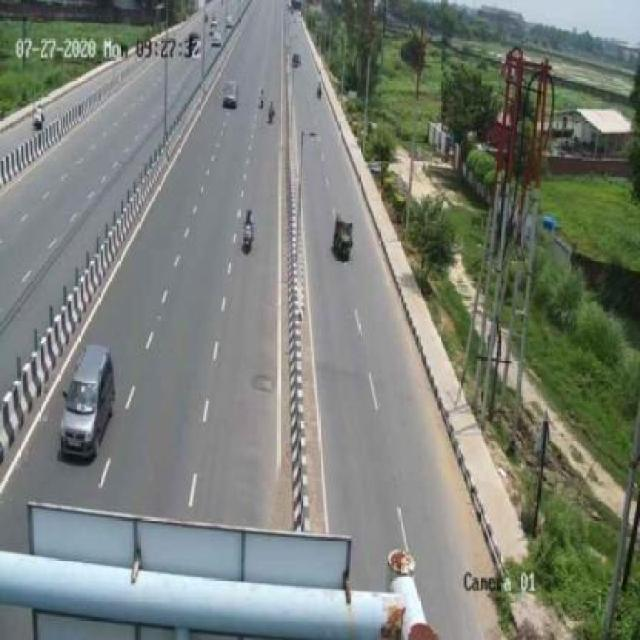car: (54, 343, 121, 466), (217, 72, 245, 116)
